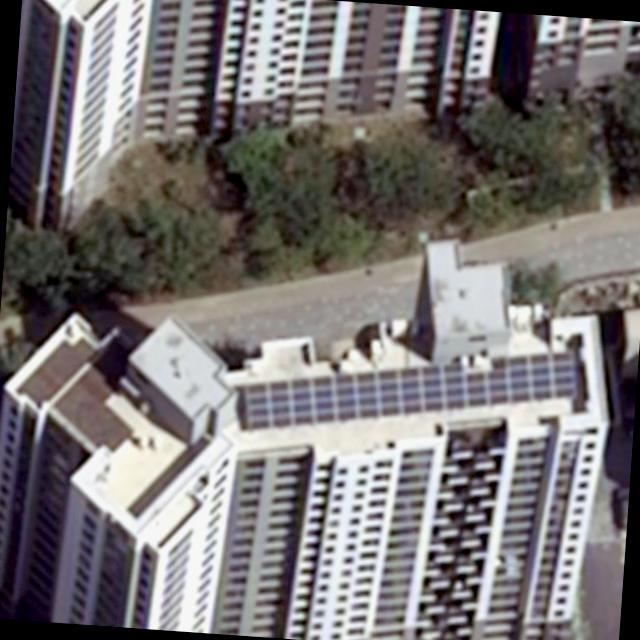solar: (234, 328, 584, 453)
